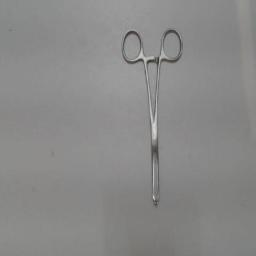Allis Tissue Forceps: (119, 24, 189, 214)
